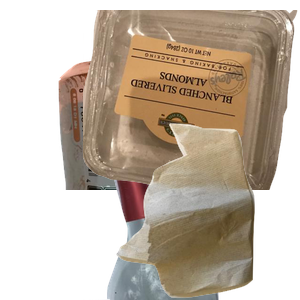glass: (83, 120, 294, 300)
metal: (56, 52, 242, 232)
plastic: (83, 10, 300, 190)
trash: (114, 121, 300, 300)
